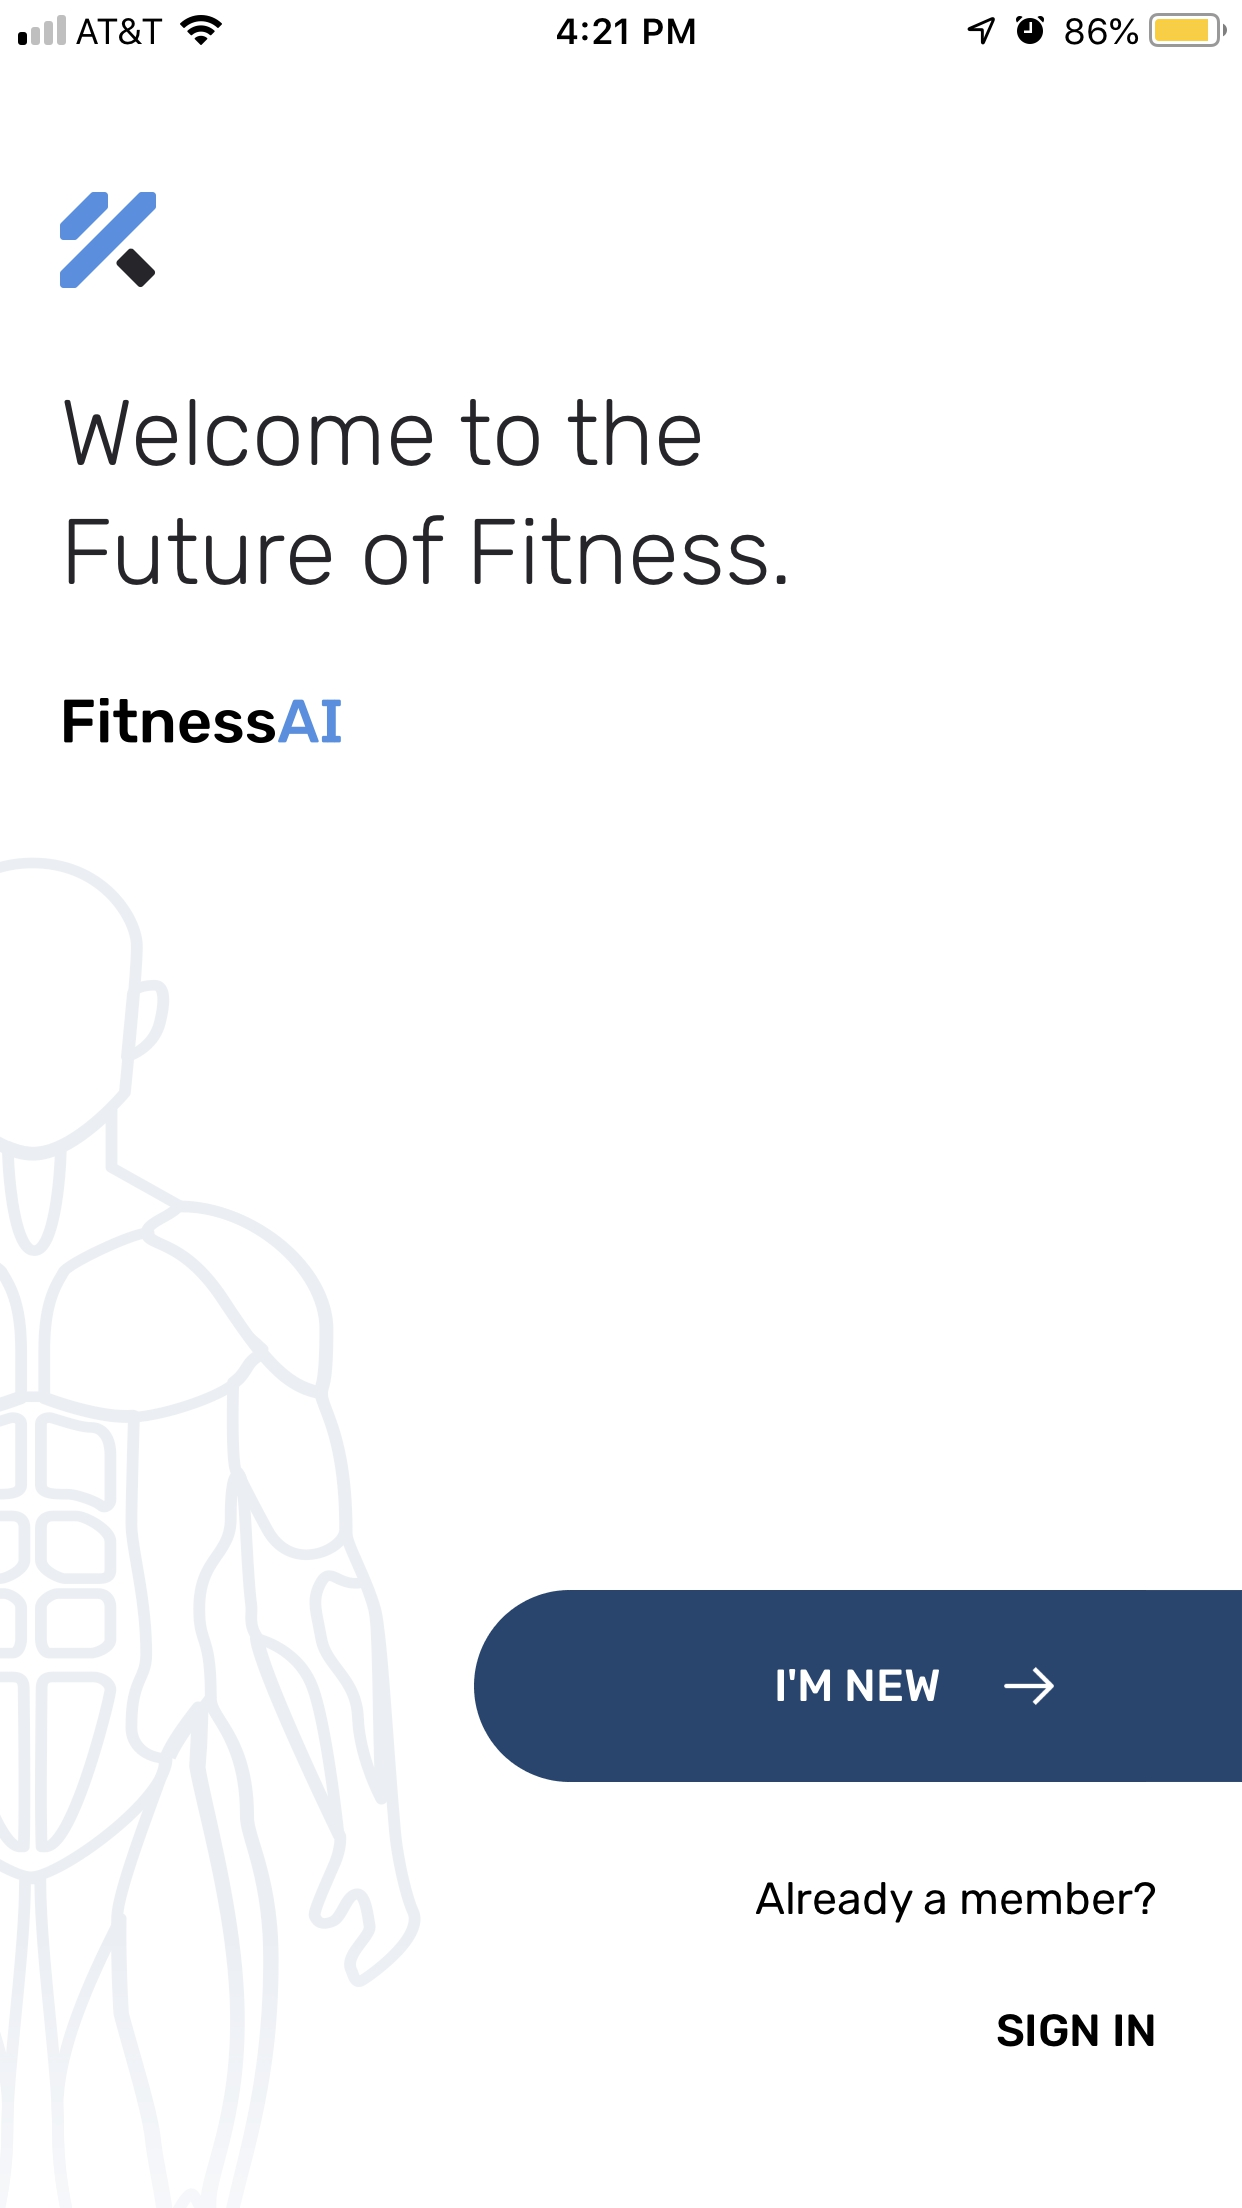Icon: (1002, 1668, 1054, 1706)
Image: (2, 857, 425, 2208), (61, 193, 158, 290)
Text: (64, 397, 787, 588), (755, 1880, 1156, 1924), (64, 698, 343, 745), (996, 2012, 1156, 2047)
TextButton: (475, 1589, 1242, 1783)
UpperTaskBar: (2, 2, 1242, 49)
